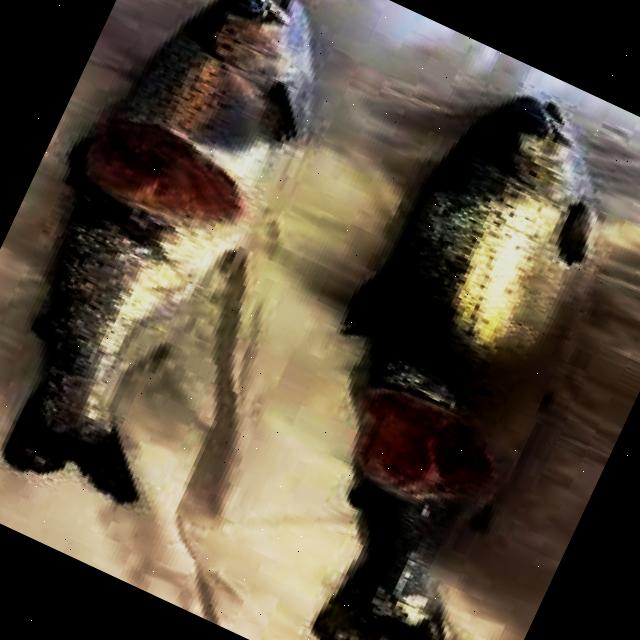Epizootic Ulcerative Syndrome -EUS-: (4, 0, 312, 501), (4, 0, 306, 501), (313, 96, 589, 640)
